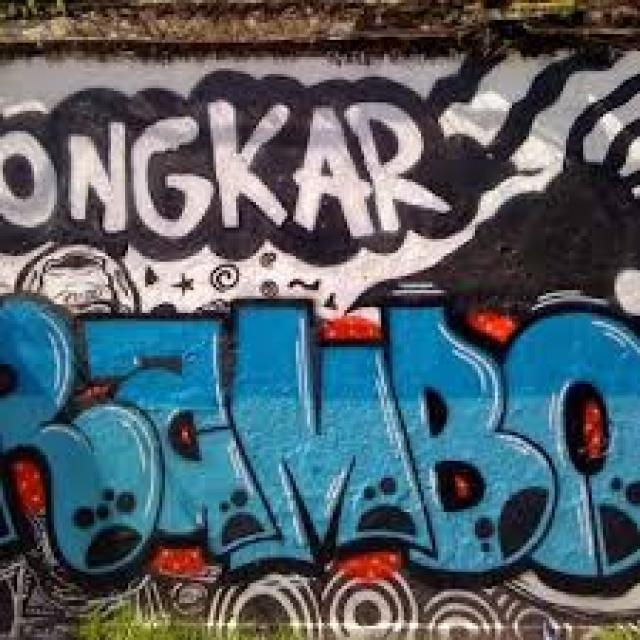-: (0, 295, 640, 580), (0, 97, 451, 236), (357, 76, 640, 292), (0, 584, 640, 640), (18, 245, 138, 313), (172, 250, 320, 295)
